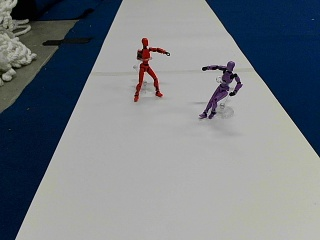pedestrian: (199, 60, 241, 118), (133, 38, 170, 100)
